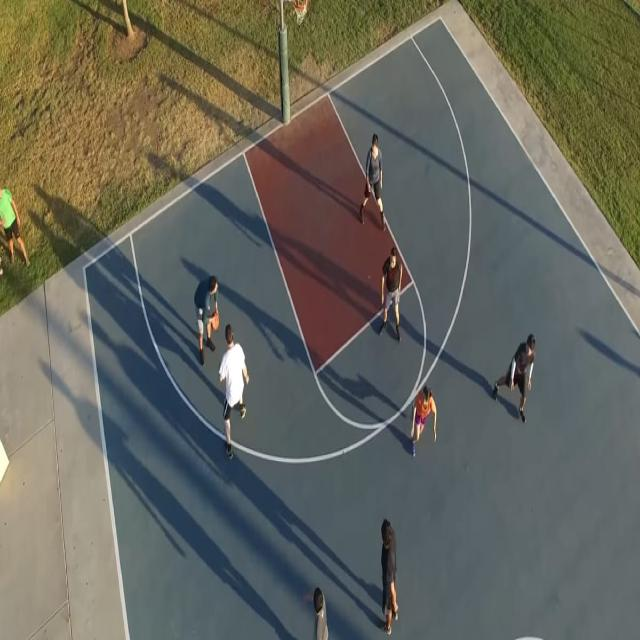humans: (217, 322, 251, 462), (492, 331, 536, 427), (356, 129, 388, 236), (378, 242, 407, 346), (192, 267, 220, 372), (407, 383, 438, 461), (380, 507, 399, 634), (304, 575, 330, 640)
